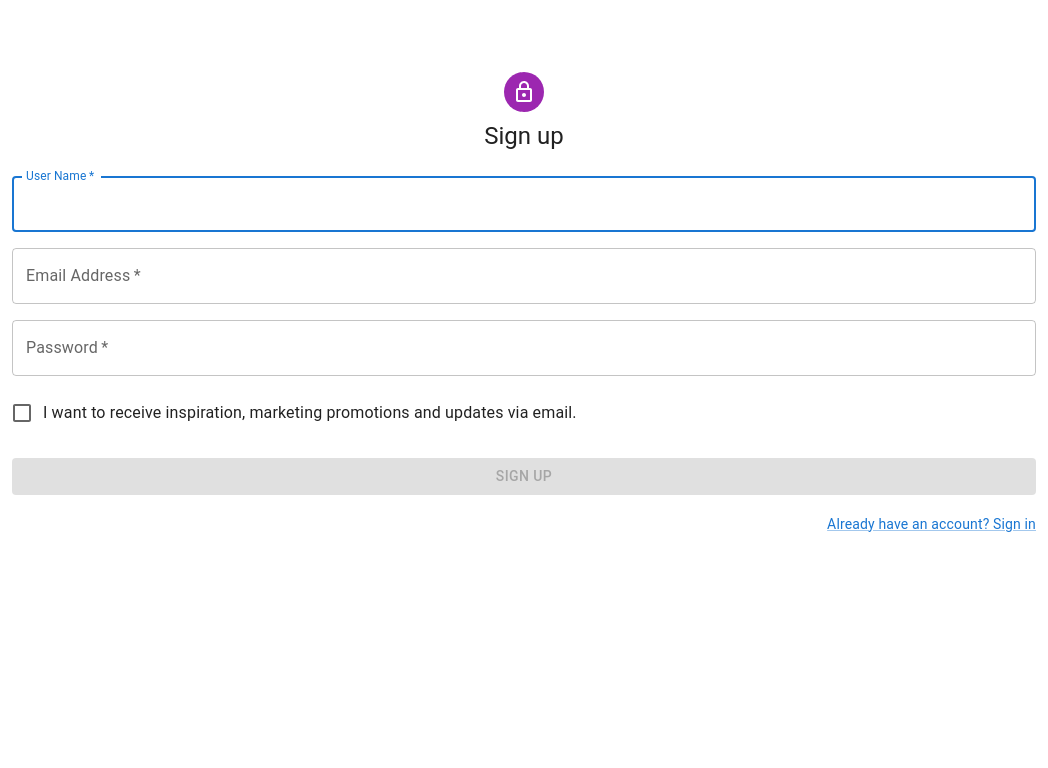
SignUp Component › Validation › should display error message on sign-up failure
Type "Jamal SaadEddin" into the field labelled "User Name *".
click(524, 204); type("Jamal SaadEddin")  # box x1=12 y1=176 x2=1036 y2=232
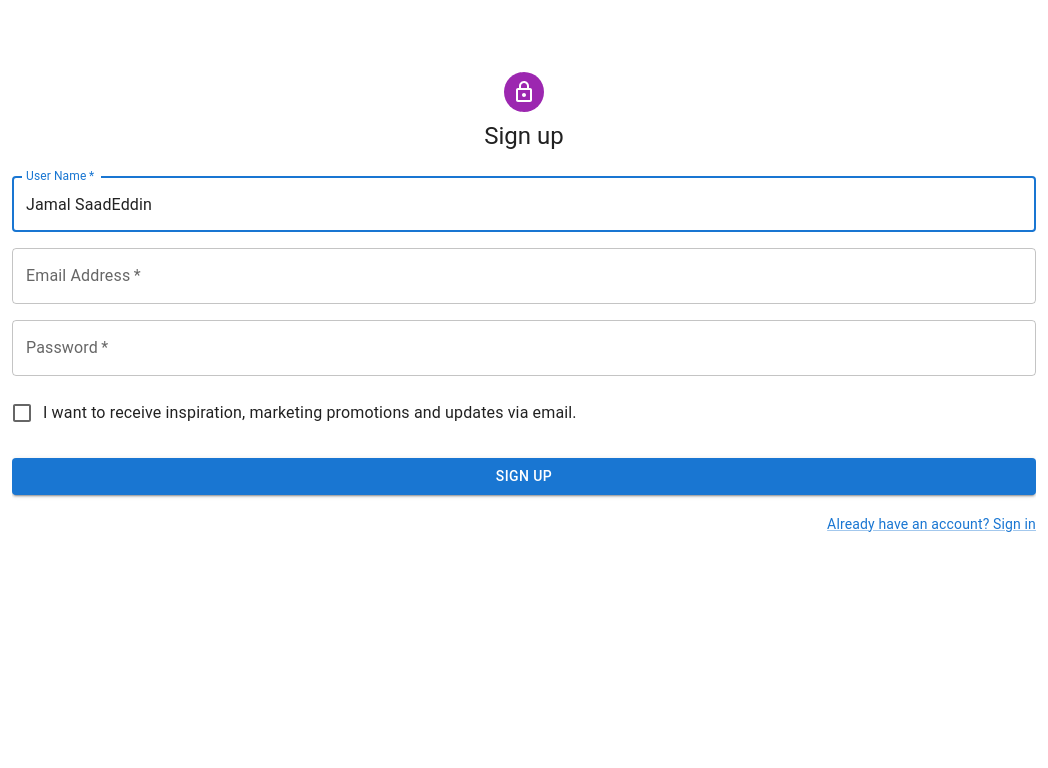
Type "fail@example.com" into the field labelled "Email Address *".
click(524, 276); type("fail@example.com")  # box x1=12 y1=248 x2=1036 y2=304
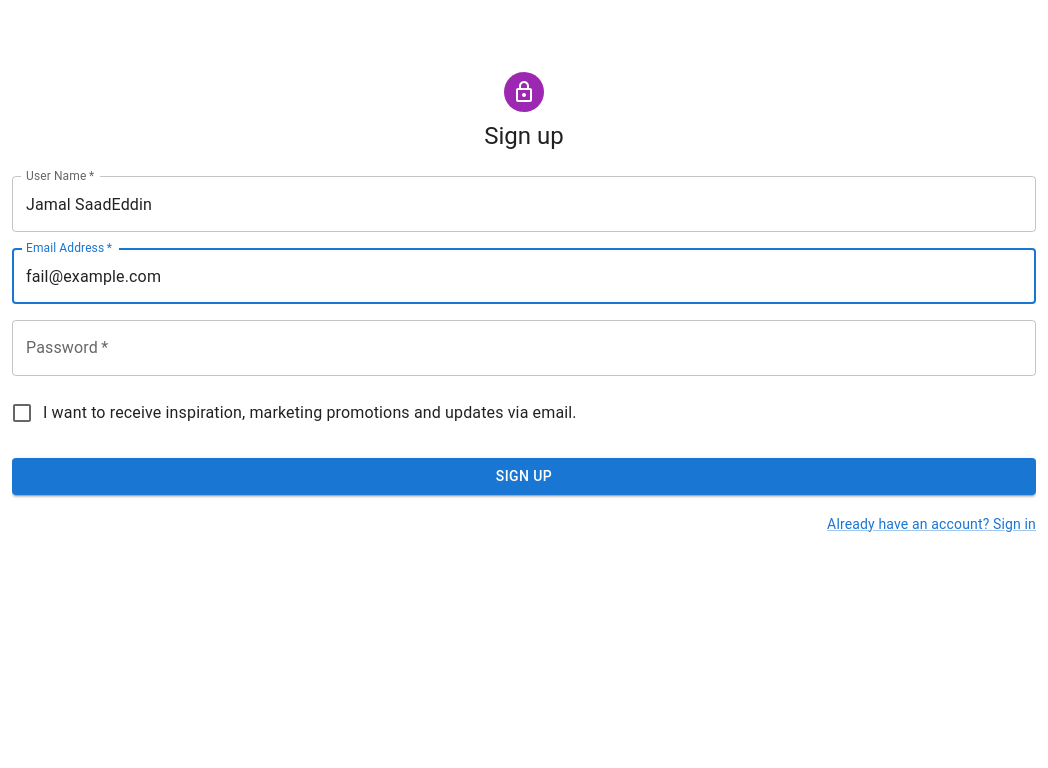
Type "123456789" into the password field labelled "Password *".
click(524, 348); type("123456789")  # box x1=12 y1=320 x2=1036 y2=376
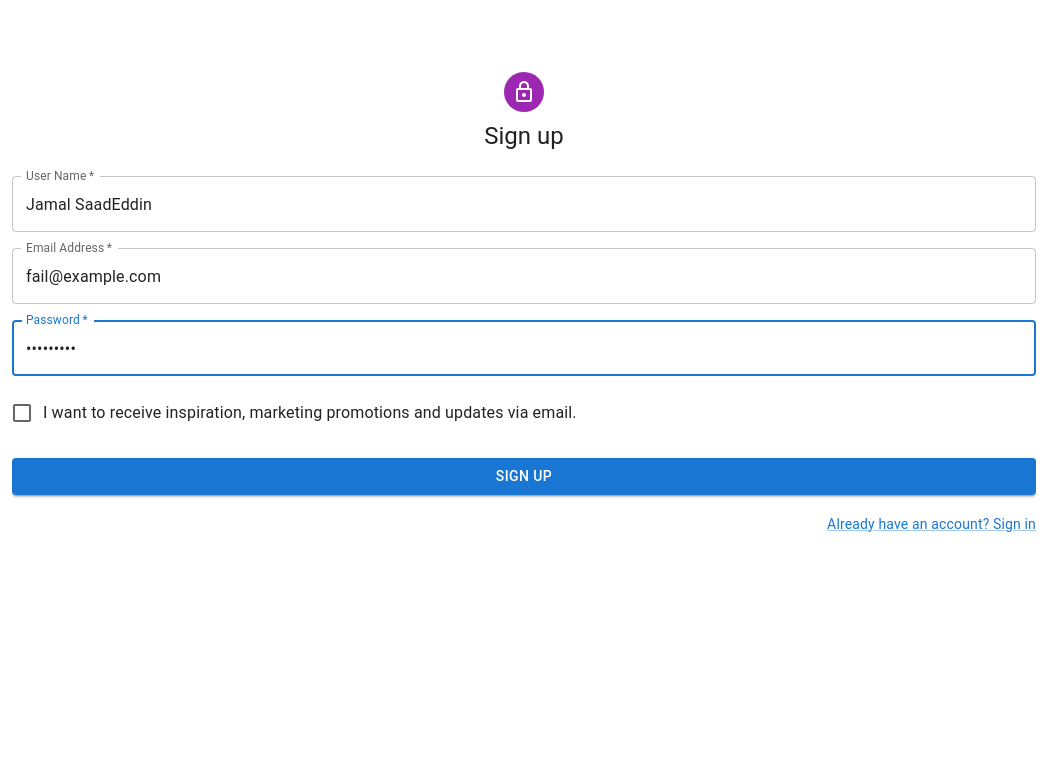
Click the button "Sign Up".
click(524, 476)  # box x1=12 y1=458 x2=1036 y2=494
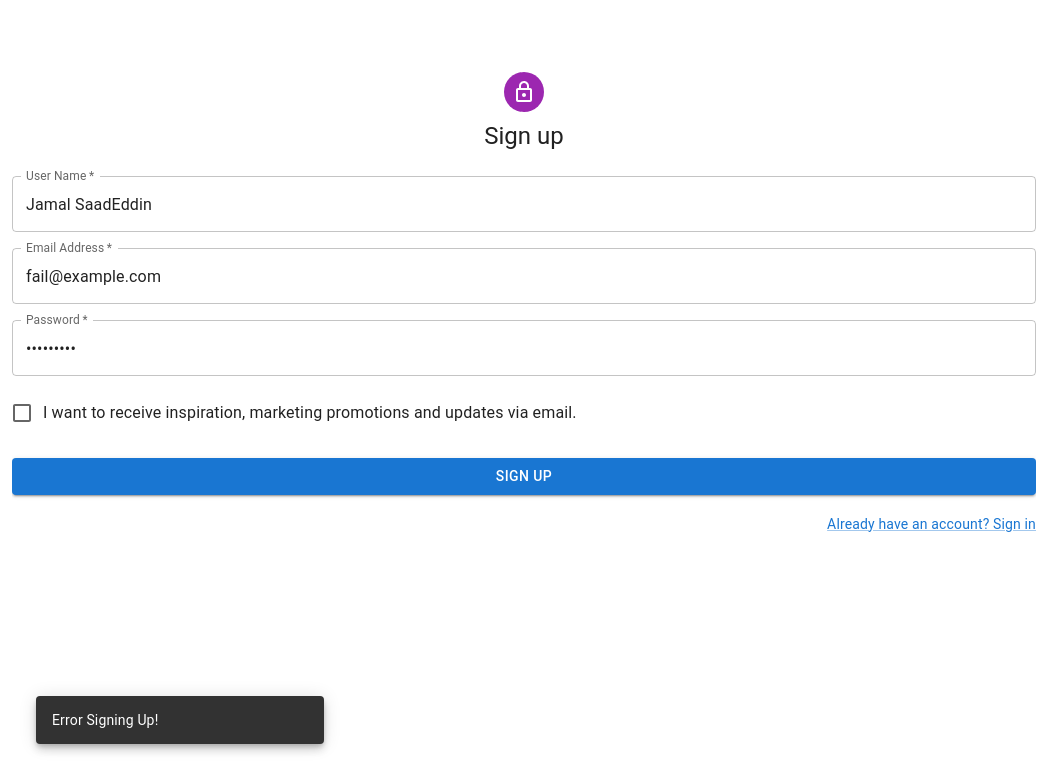
Now the text "Error Signing Up!" is shown, box x1=52 y1=712 x2=158 y2=728
